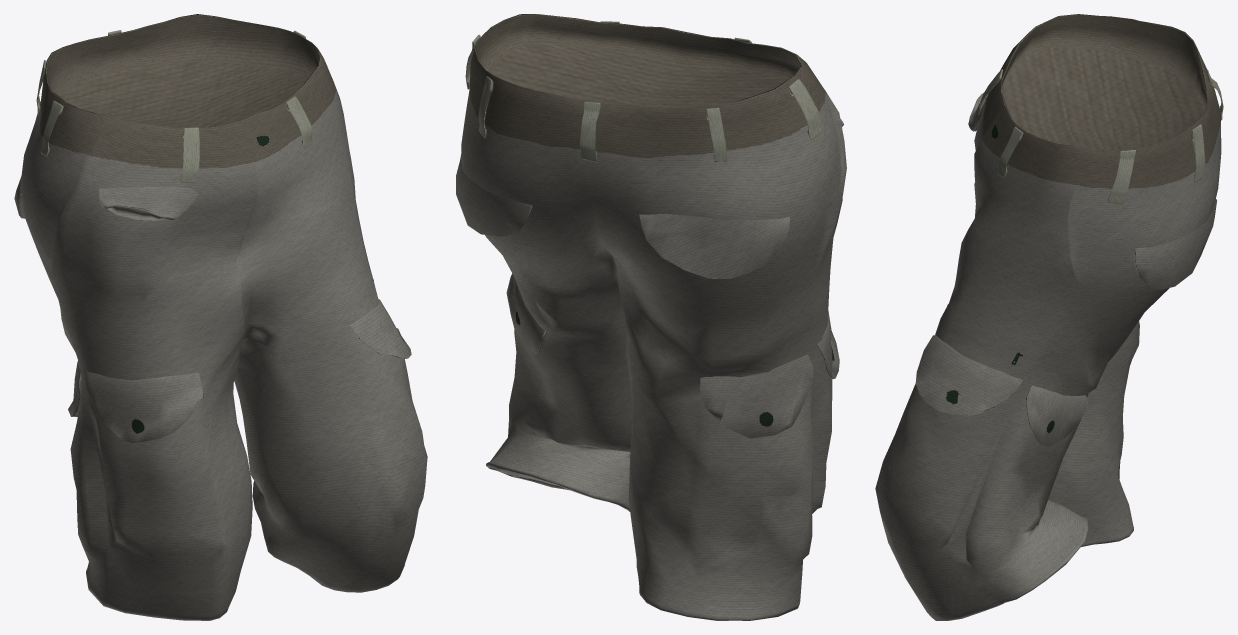
The model's file is Piernas.obj.
3 renders of one model, left to right at view 1: azimuth 30°, elevation 25°; view 2: azimuth 150°, elevation 25°; view 3: azimuth 270°, elevation 25°, orthographic. The views are drawn at different scales.
Visible parts, largest first — view 1: Object_9; view 2: Object_9; view 3: Object_9.
Part boxes in pixels (x1,y1,x2,y2): Object_9: (14, 14, 427, 620); Object_9: (456, 14, 846, 620); Object_9: (875, 14, 1223, 620).
Size of the model in its own units: 0.7191 by 1.04 by 0.6685.
1 material, 1 textured.
